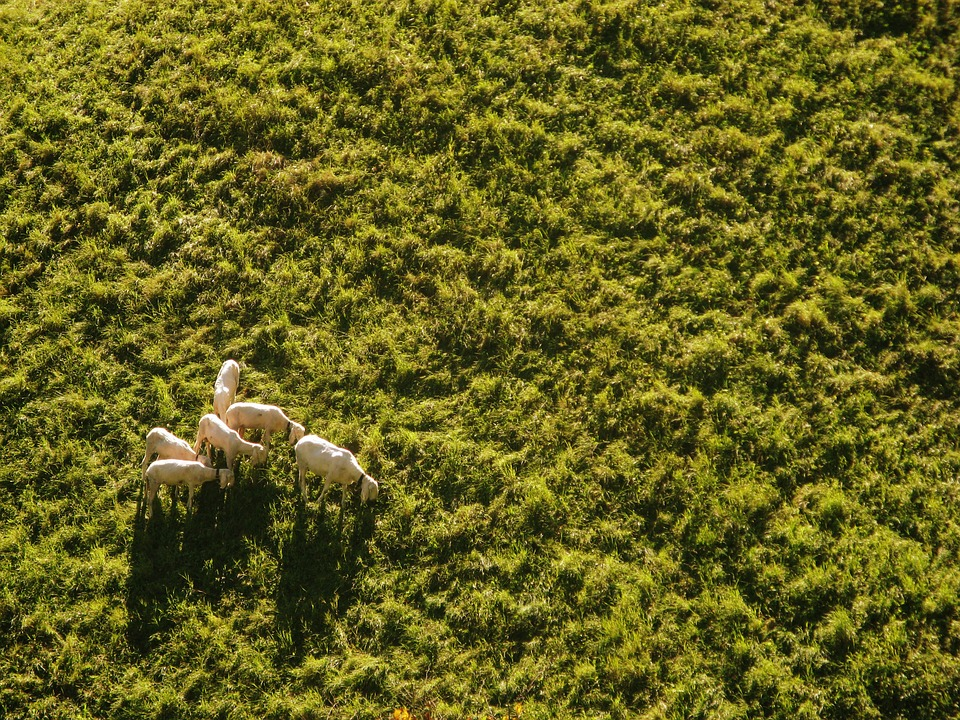sheep: (294, 431, 393, 514), (190, 410, 273, 473), (133, 457, 230, 509), (230, 398, 310, 445), (135, 426, 207, 477), (215, 362, 245, 414)
